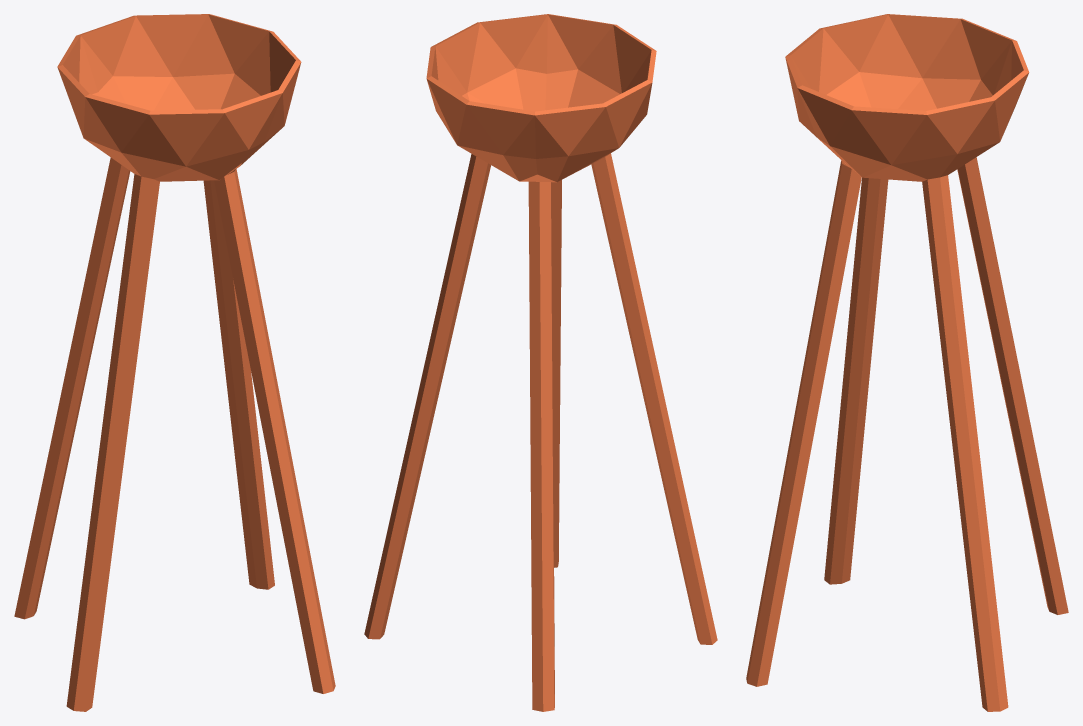
The model's file is torchereCastel_003_grp.fbx.
3 views of the same model, side by side, from view 1: azimuth 30°, elevation 25°; view 2: azimuth 150°, elevation 25°; view 3: azimuth 270°, elevation 25° (orthographic). The views are drawn at different scales.
Visible parts, largest first — view 1: torchereCastel_003_grp; view 2: torchereCastel_003_grp; view 3: torchereCastel_003_grp.
Boxes of the visible parts, x1=… form: torchereCastel_003_grp: x1=14, y1=14, x2=335, y2=711; torchereCastel_003_grp: x1=364, y1=14, x2=717, y2=711; torchereCastel_003_grp: x1=746, y1=14, x2=1068, y2=711.
Size of the model in its own units: 49.98 by 100 by 50.02.
